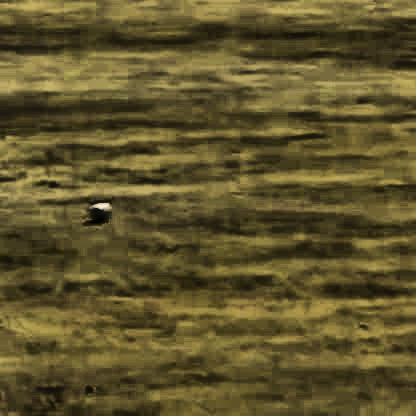golfball: (87, 197, 111, 221)
